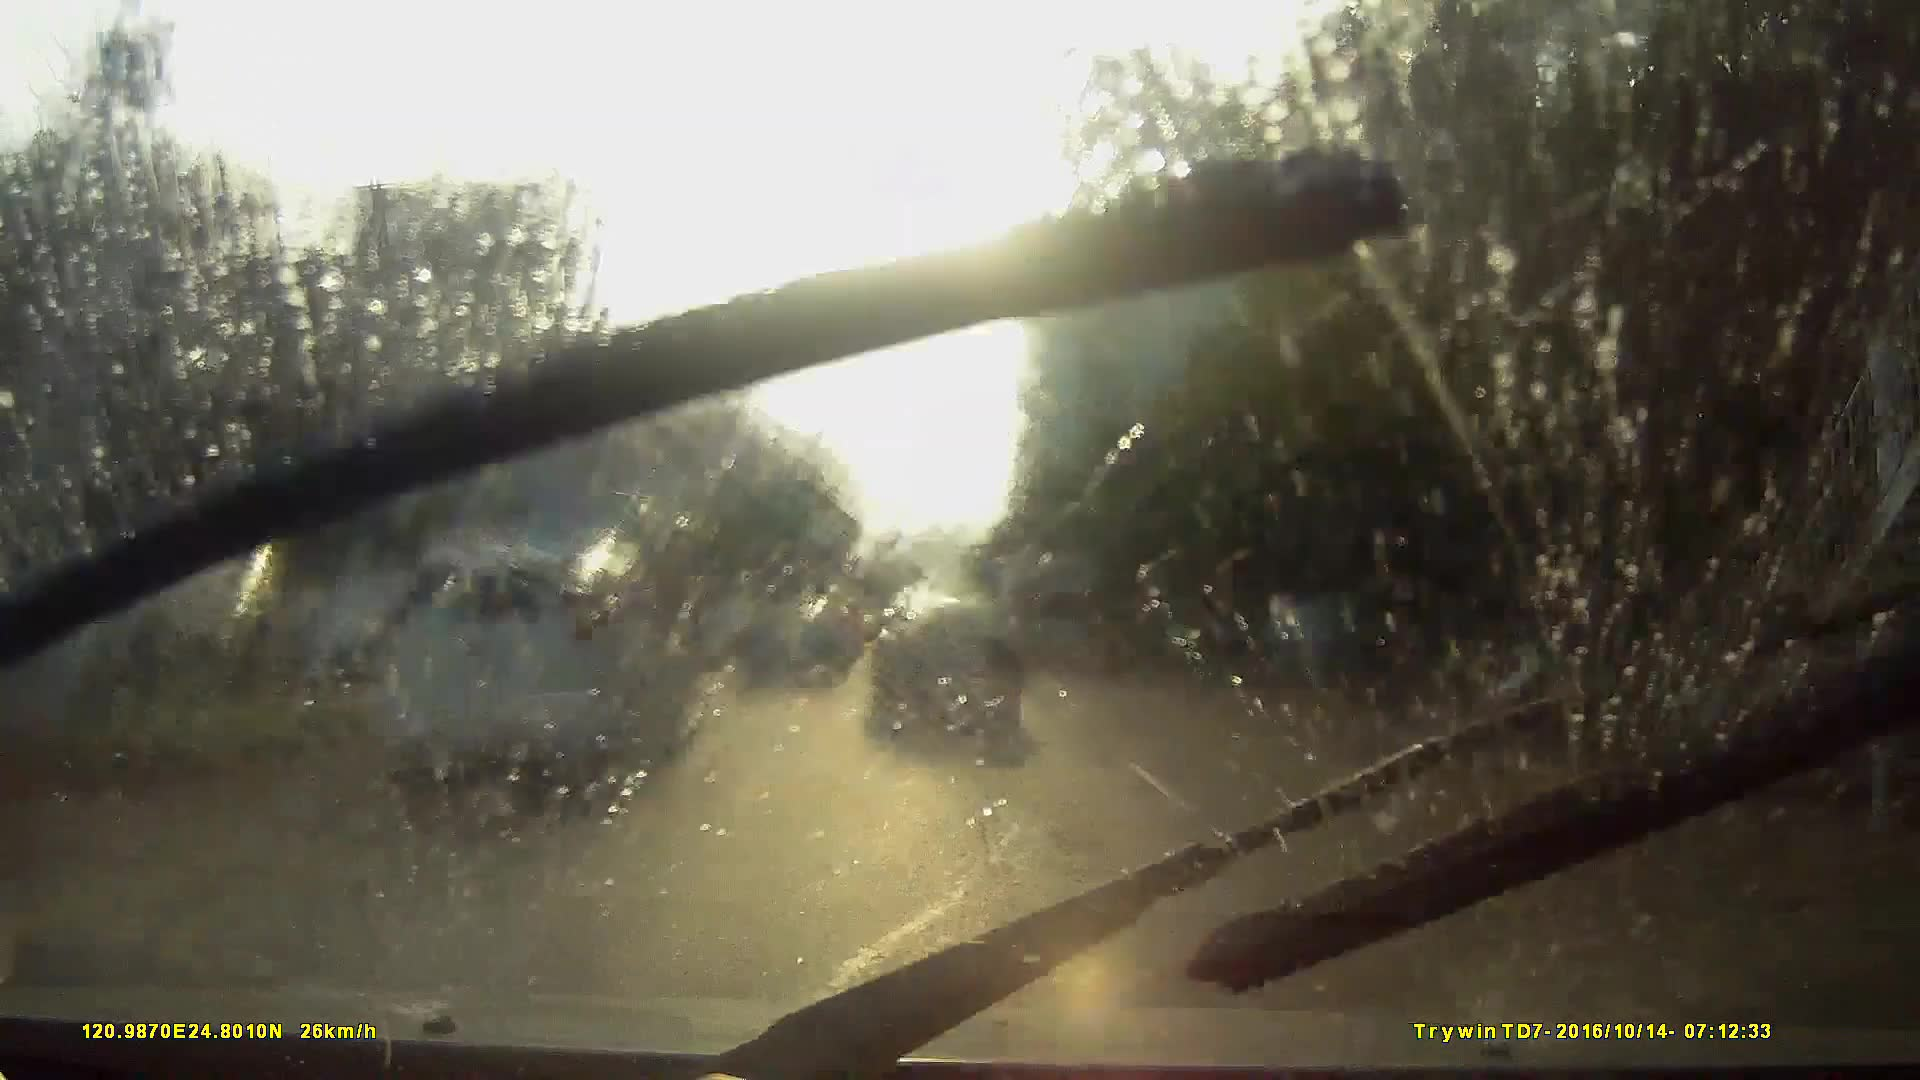vehicle: (251, 556, 684, 868), (382, 545, 698, 793), (485, 491, 721, 667), (866, 595, 1023, 757), (996, 556, 1101, 683), (735, 609, 845, 694), (866, 638, 915, 687)
